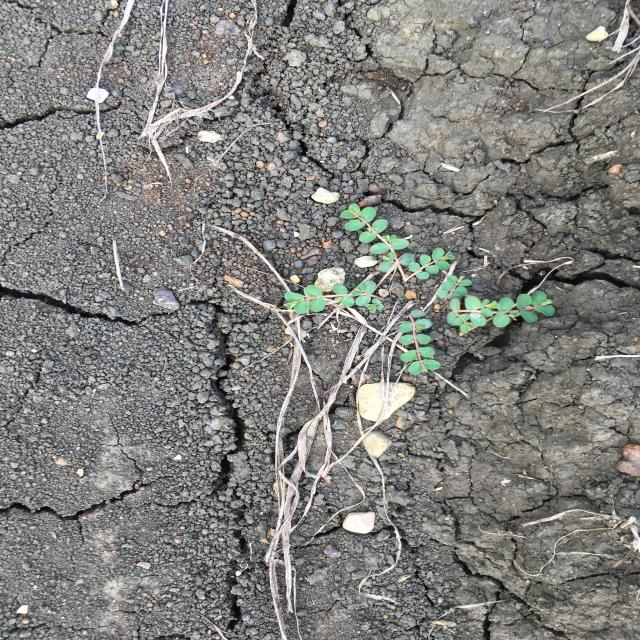SpottedSpurge: (280, 200, 560, 378)
